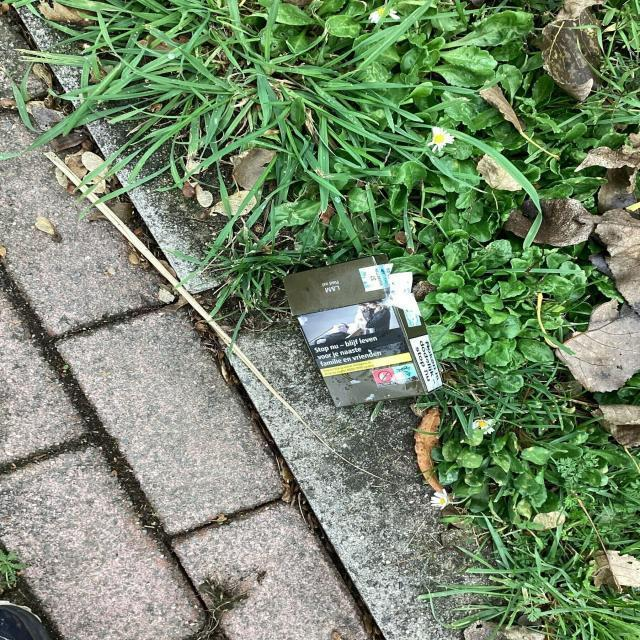Paper: (280, 251, 444, 408)
